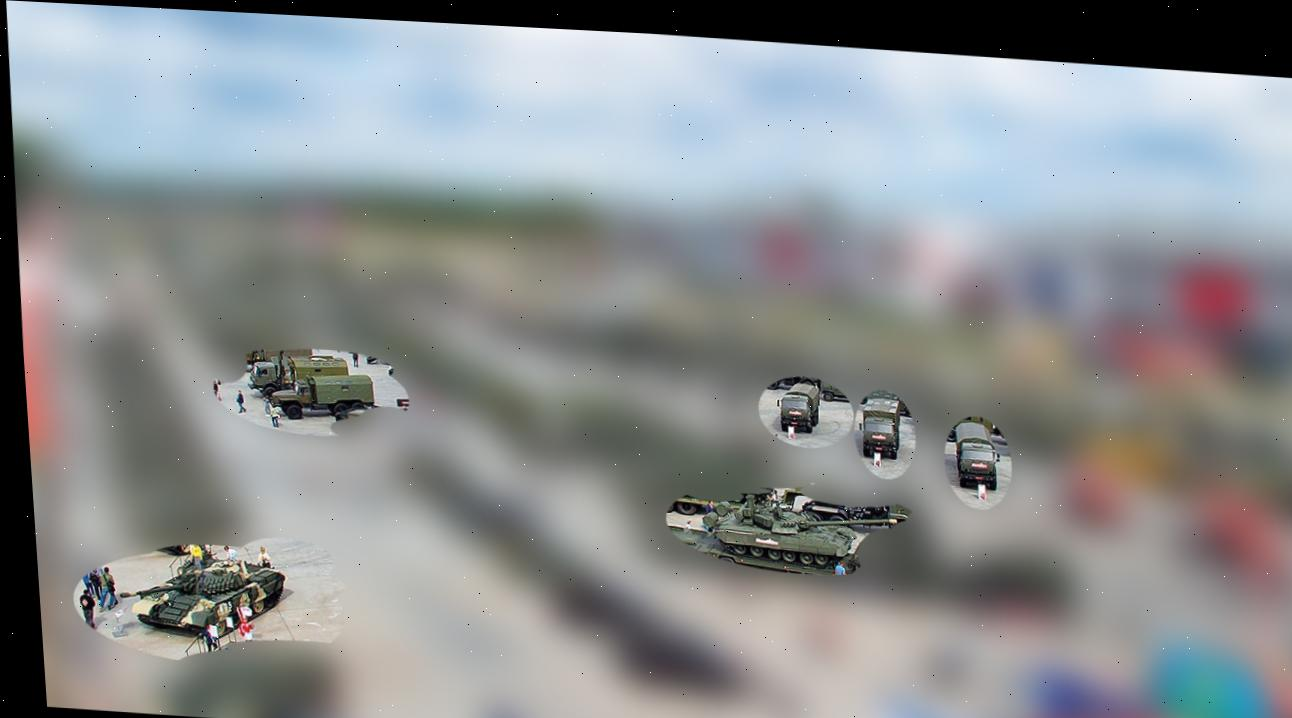tank: (108, 548, 294, 646), (695, 492, 905, 573)
truck: (267, 366, 378, 427), (951, 421, 1003, 492), (856, 395, 905, 462), (774, 380, 825, 437)
